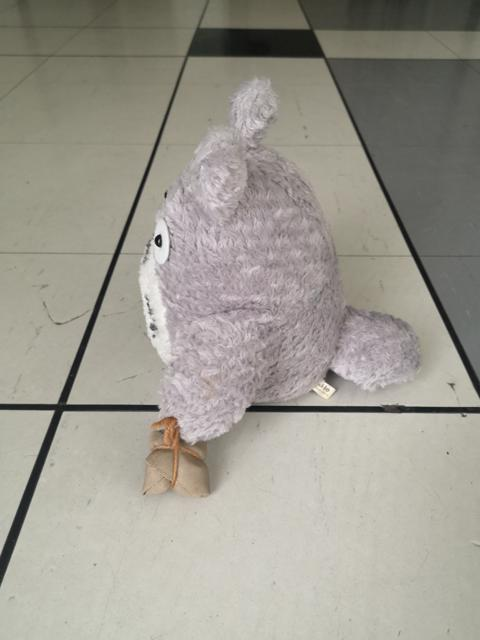totoro: (136, 71, 428, 504)
